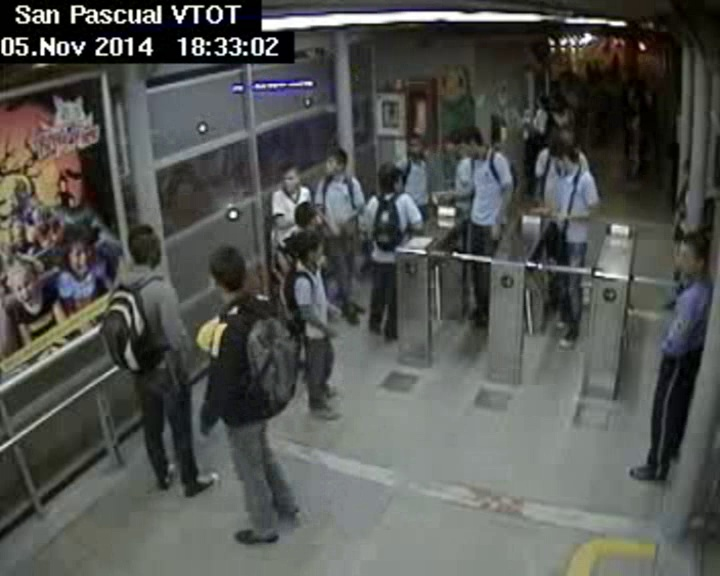person: (204, 246, 246, 301), (669, 223, 709, 273), (126, 214, 162, 265), (456, 129, 496, 162), (546, 140, 585, 170), (278, 159, 308, 196), (295, 198, 326, 231), (323, 146, 349, 177), (375, 165, 404, 189), (297, 236, 324, 259), (401, 135, 426, 158), (547, 90, 572, 108), (532, 92, 547, 109)
